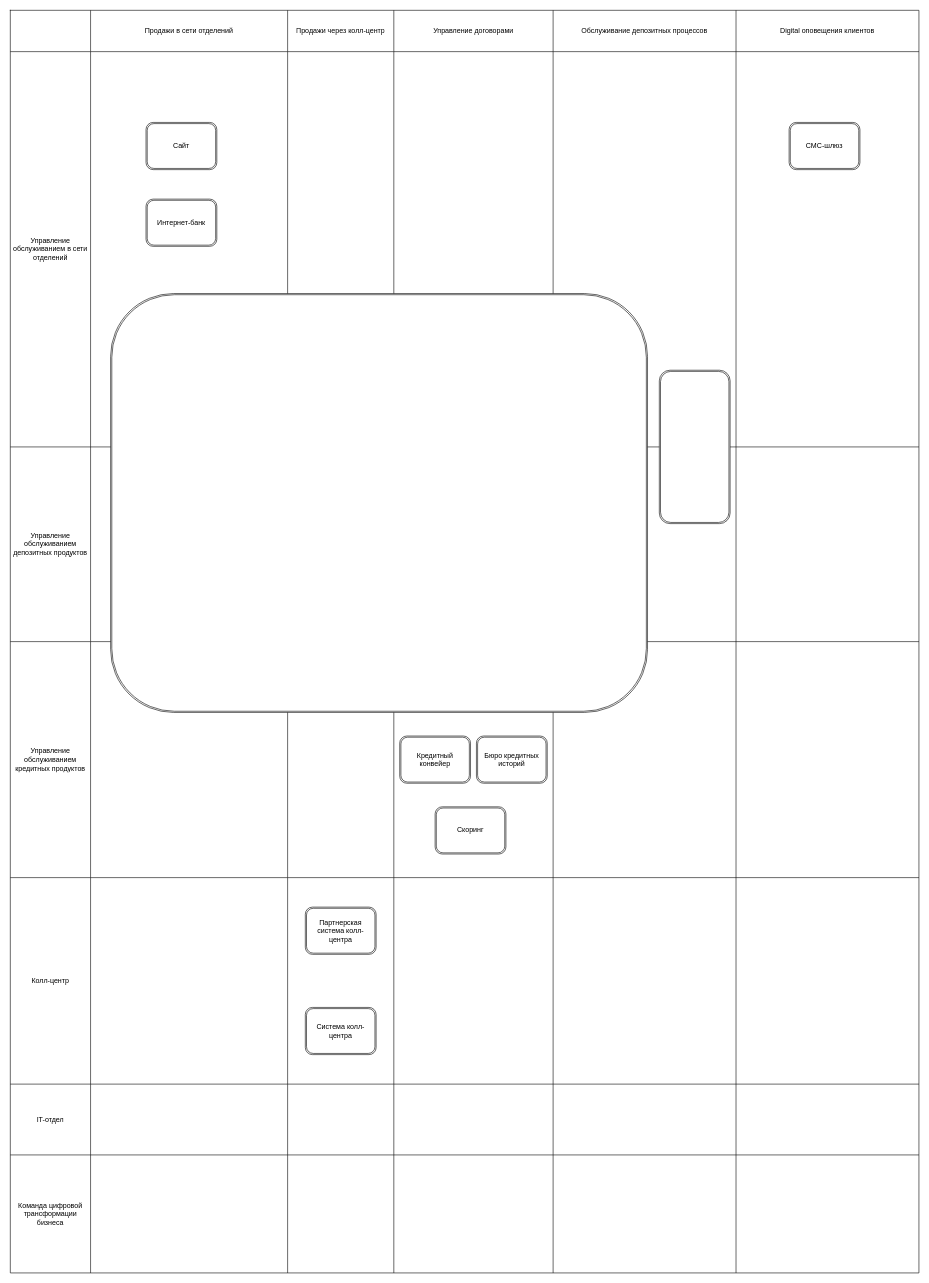
This 929x1283 diagram has some shape labels left out. The shapes that lost their labels are listed below. From the top down, each one's centre as x and y in pixels, then its label:
At [694,447]: "Excel + почта".
At [379,502]: "АБС".
